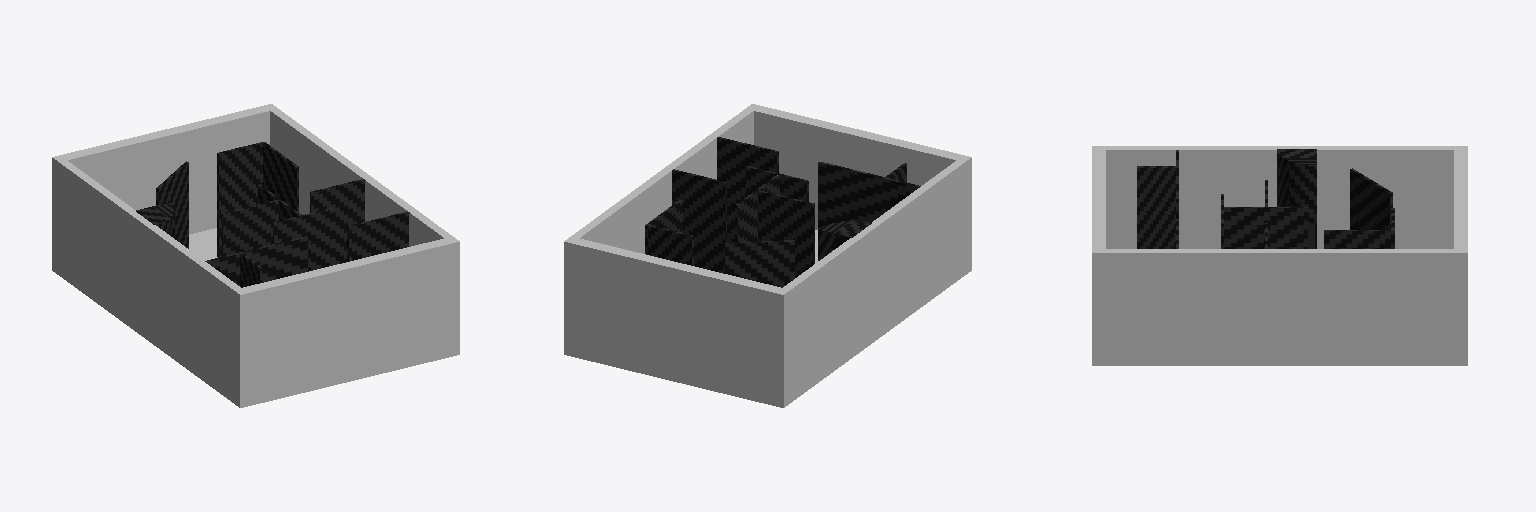
The picture shows the model from 3 angles: view 1: azimuth 30°, elevation 25°; view 2: azimuth 150°, elevation 25°; view 3: azimuth 270°, elevation 25°; orthographic projection.
Parts seen in each view (by area): view 1: Куб_Куб.004, Куб.009_Куб.013, Куб.001_Куб.005, Куб.007_Куб.011, Куб.003_Куб.007, Куб.004_Куб.008, Куб.002_Куб.006, Куб.008_Куб.012, Куб.010_Куб.014, Цилиндр.001_Цилиндр, Куб.005_Куб.009; view 2: Куб_Куб.004, Куб.001_Куб.005, Куб.004_Куб.008, Куб.007_Куб.011, Куб.010_Куб.014, Куб.002_Куб.006, Куб.009_Куб.013, Куб.006_Куб.010, Куб.003_Куб.007, Цилиндр.001_Цилиндр, Куб.008_Куб.012; view 3: Куб_Куб.004, Куб.006_Куб.010, Куб.005_Куб.009, Цилиндр.001_Цилиндр, Куб.010_Куб.014, Куб.008_Куб.012.
Part boxes in pixels (x1,y1,x2,y2): Куб_Куб.004: (52, 104, 459, 407); Куб.009_Куб.013: (217, 142, 262, 257); Куб.001_Куб.005: (205, 236, 307, 285); Куб.007_Куб.011: (222, 200, 278, 256); Куб.003_Куб.007: (273, 208, 334, 271); Куб.004_Куб.008: (310, 179, 364, 264); Куб.002_Куб.006: (347, 211, 409, 261); Куб.008_Куб.012: (262, 142, 298, 211); Куб.010_Куб.014: (156, 161, 188, 248); Цилиндр.001_Цилиндр: (136, 203, 174, 238); Куб.005_Куб.009: (240, 253, 261, 287); Куб_Куб.004: (564, 104, 971, 407); Куб.001_Куб.005: (818, 162, 920, 228); Куб.004_Куб.008: (672, 169, 726, 273); Куб.007_Куб.011: (758, 190, 814, 277); Куб.010_Куб.014: (725, 240, 794, 287); Куб.002_Куб.006: (717, 137, 778, 242); Куб.009_Куб.013: (648, 225, 693, 265); Куб.006_Куб.010: (735, 174, 779, 241); Куб.003_Куб.007: (746, 166, 808, 201); Цилиндр.001_Цилиндр: (818, 221, 871, 260); Куб.008_Куб.012: (645, 200, 682, 254); Куб_Куб.004: (1092, 146, 1467, 365); Куб.006_Куб.010: (1224, 207, 1307, 248); Куб.005_Куб.009: (1137, 166, 1175, 248); Цилиндр.001_Цилиндр: (1277, 149, 1316, 248); Куб.010_Куб.014: (1350, 168, 1392, 229); Куб.008_Куб.012: (1324, 230, 1394, 248).
Bounding box in the file's own units: 1.62 × 0.8006 × 2.41.
2 materials, 1 textured.